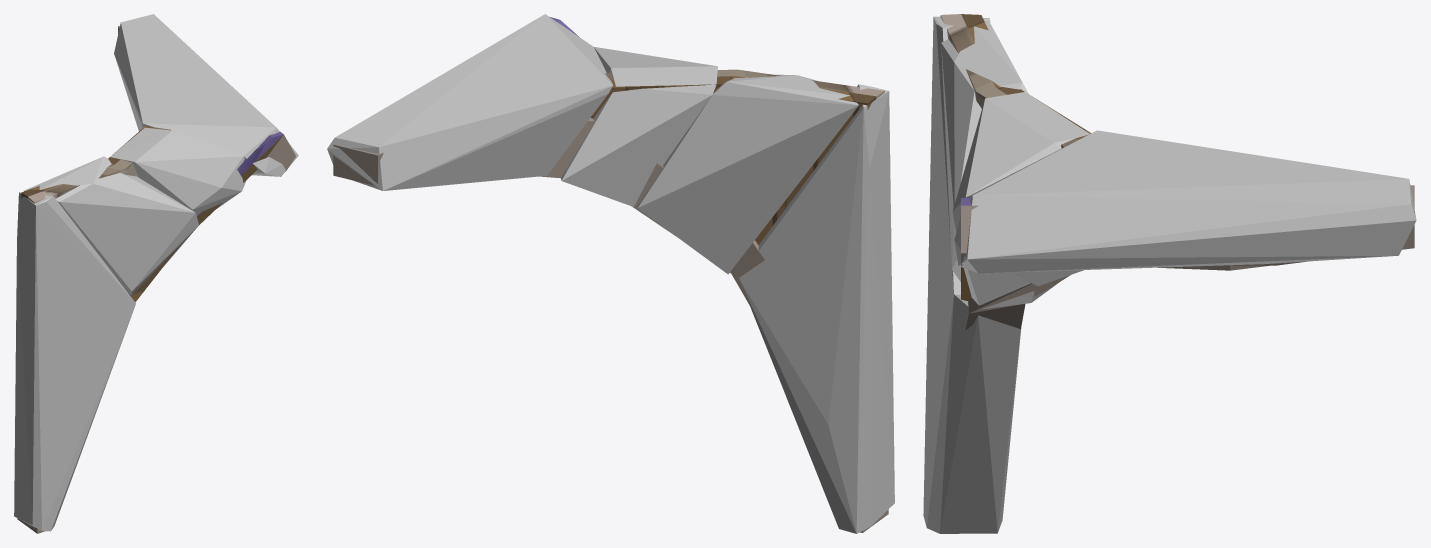
File: SM_Bld_Roof_Convex_Tower_03.fbx
3 views of the same model, side by side, from view 1: azimuth 30°, elevation 25°; view 2: azimuth 150°, elevation 25°; view 3: azimuth 270°, elevation 25° (orthographic). The views are drawn at different scales.
Visible parts, largest first — view 1: SM_Bld_Roof_Convex_Tower_03_ConvexHulls, SM_Bld_Roof_Convex_Tower_03; view 2: SM_Bld_Roof_Convex_Tower_03_ConvexHulls, SM_Bld_Roof_Convex_Tower_03; view 3: SM_Bld_Roof_Convex_Tower_03_ConvexHulls, SM_Bld_Roof_Convex_Tower_03.
Boxes of the visible parts, left/top/right/bottom form: SM_Bld_Roof_Convex_Tower_03_ConvexHulls: left=14, top=14, right=298, bottom=531; SM_Bld_Roof_Convex_Tower_03: left=17, top=26, right=295, bottom=533; SM_Bld_Roof_Convex_Tower_03_ConvexHulls: left=327, top=14, right=894, bottom=533; SM_Bld_Roof_Convex_Tower_03: left=333, top=17, right=888, bottom=532; SM_Bld_Roof_Convex_Tower_03_ConvexHulls: left=923, top=16, right=1416, bottom=533; SM_Bld_Roof_Convex_Tower_03: left=940, top=14, right=1414, bottom=330.
Size of the model in its own units: 275 by 272 by 317.
5 materials, 4 textured.
